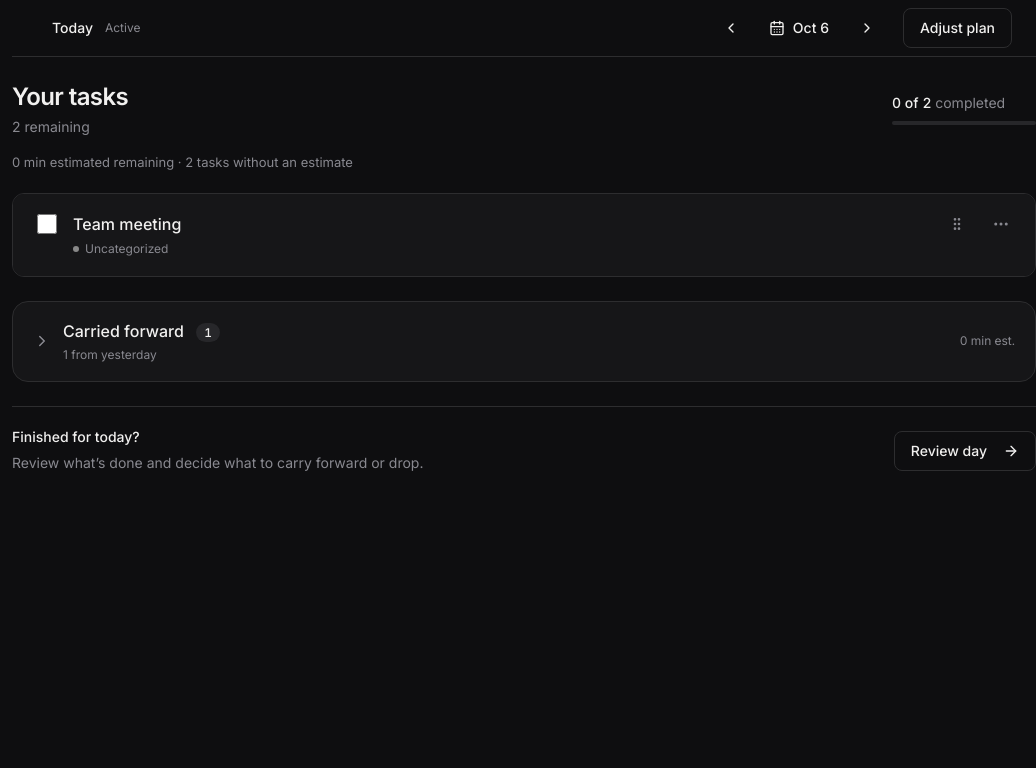
Test: Daily planning workflow › separates older work in a collapsible carryover list with its original date
Expected: the text "Carried forward" is shown, [63,321,188,341]
Expected: the text "1 from yesterday" is shown, [63,347,157,362]
Click the text "Carried forward". click: (141, 332)
box: [63,321,220,342]
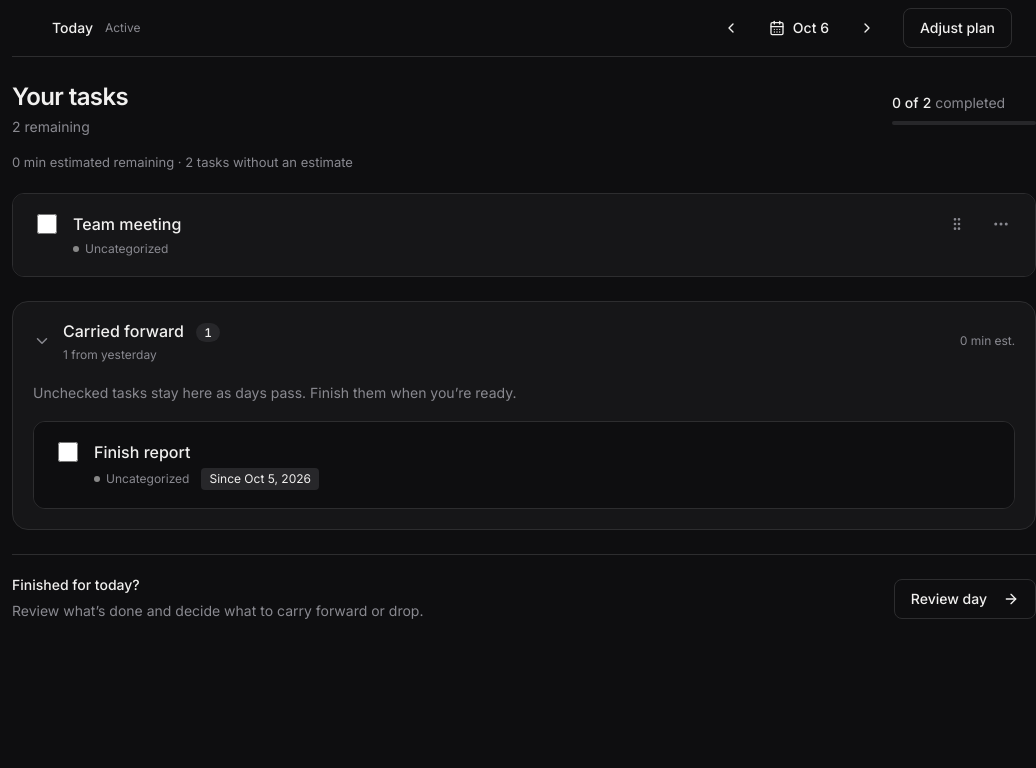
Expected: the checkbox named "Mark Team meeting complete" is shown, [37,214,57,234]
Now the checkbox named "Mark Finish report complete" is shown, box [58,442,78,462]
